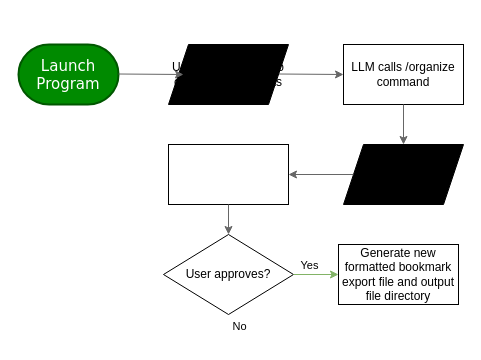
Some shapes in this 481 by 360 pixel diagram are drawn without their labels. The shapes that lost their labels are listed below. From the top down, each one's centre as x and y in pixels, then its label:
the point at 228,174: LLM plans and generates final taxonomy and classification
the point at 403,174: Program reads in bookmark data from user
